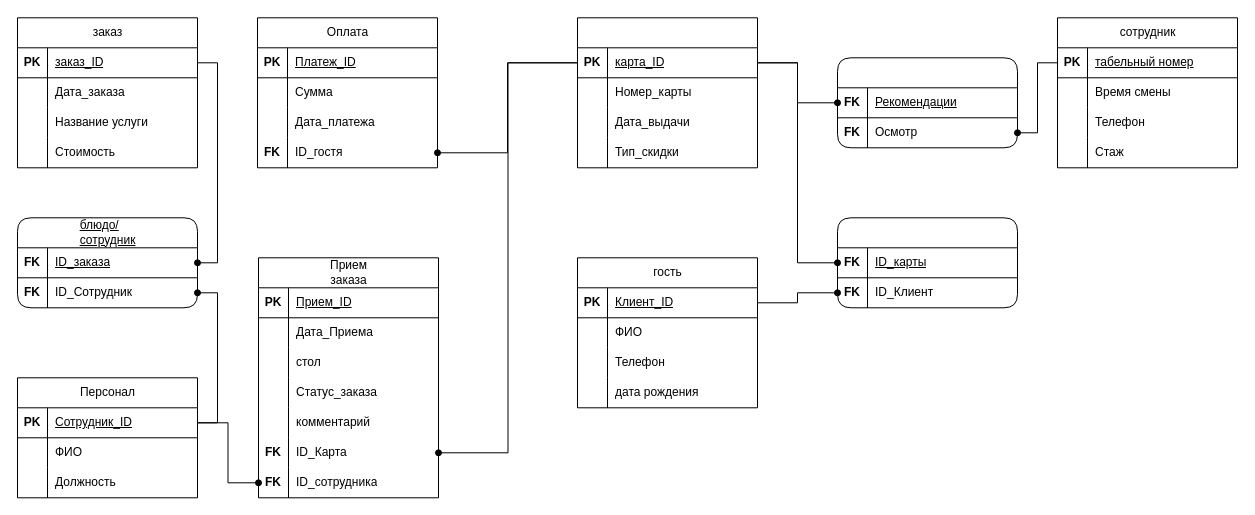
Some shapes in this 1255 by 515 pixel diagram are drawn without their labels. Each missing label, with the box of its shape:
карта лояльности: (576, 17, 758, 168)
карта/гость: (836, 217, 1018, 308)
Назначение: (836, 57, 1018, 148)
